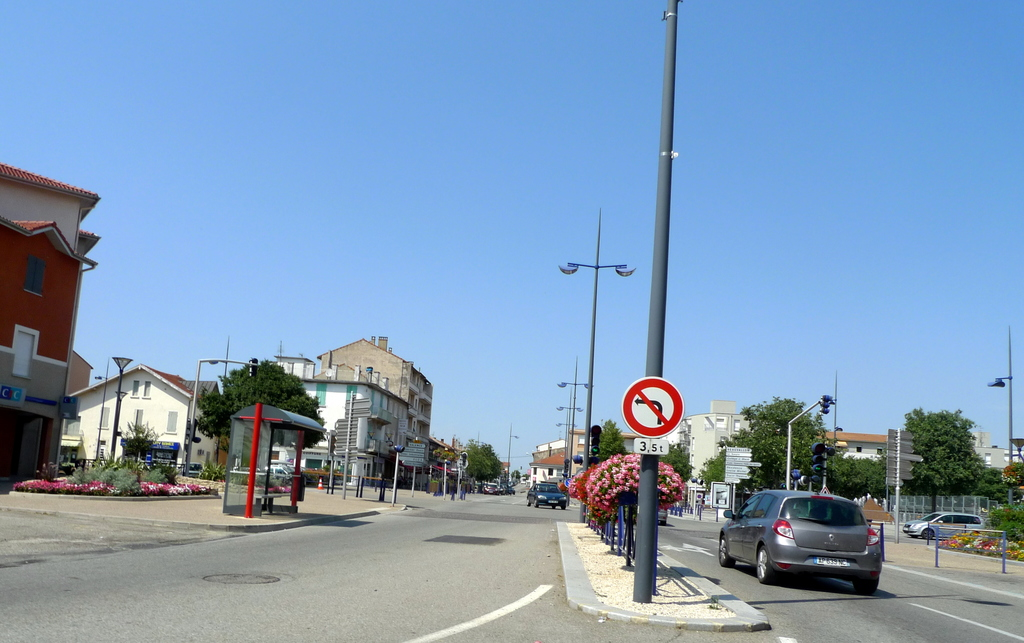no_left_turn: (621, 376, 686, 437)
